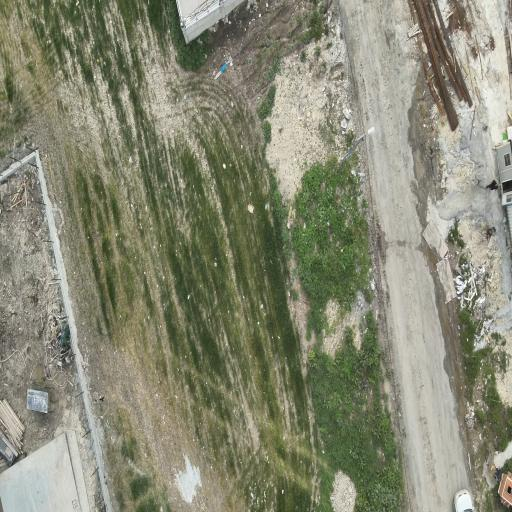car: (454, 490, 473, 511)
person: (486, 180, 498, 190)
